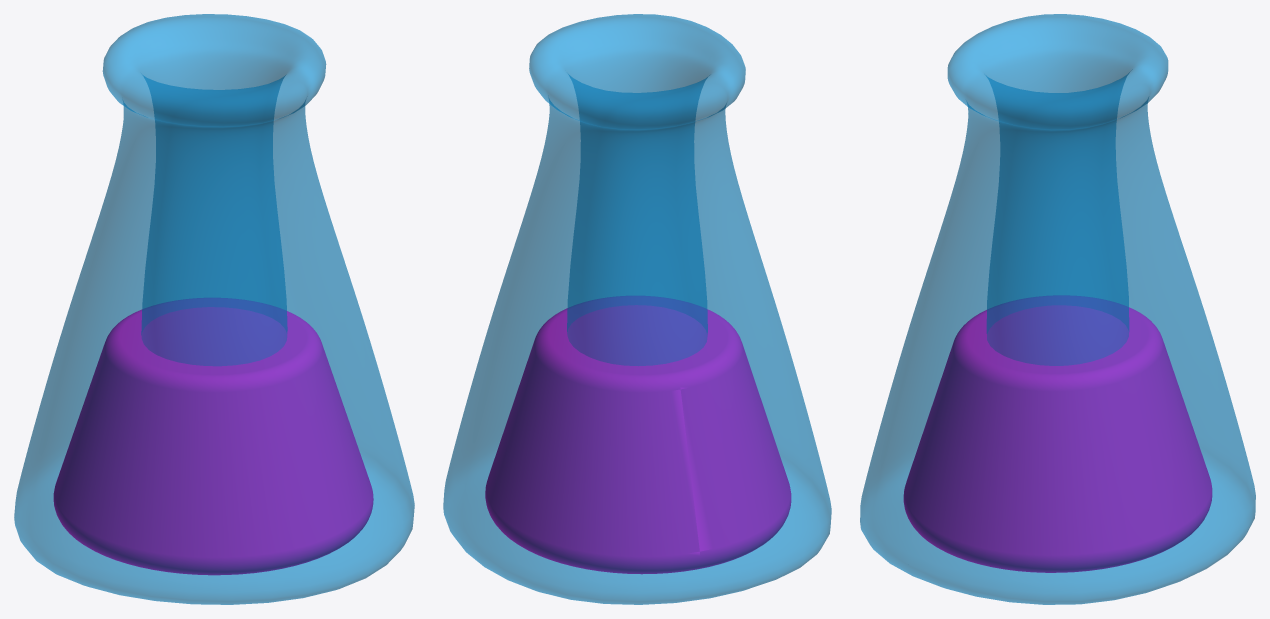
Rendered from beaker.glb.
3 views of the same model, side by side, from view 1: azimuth 30°, elevation 25°; view 2: azimuth 150°, elevation 25°; view 3: azimuth 270°, elevation 25° (orthographic).
Parts seen in each view (by area): view 1: Cube.001; view 2: Cube.001; view 3: Cube.001.
Boxes of the visible parts, x1,y1,x2,y2 form: Cube.001: (14, 14, 414, 604); Cube.001: (443, 14, 831, 604); Cube.001: (860, 14, 1255, 604).
Bounding box in the file's own units: 0.3956 × 0.5213 × 0.3907.
